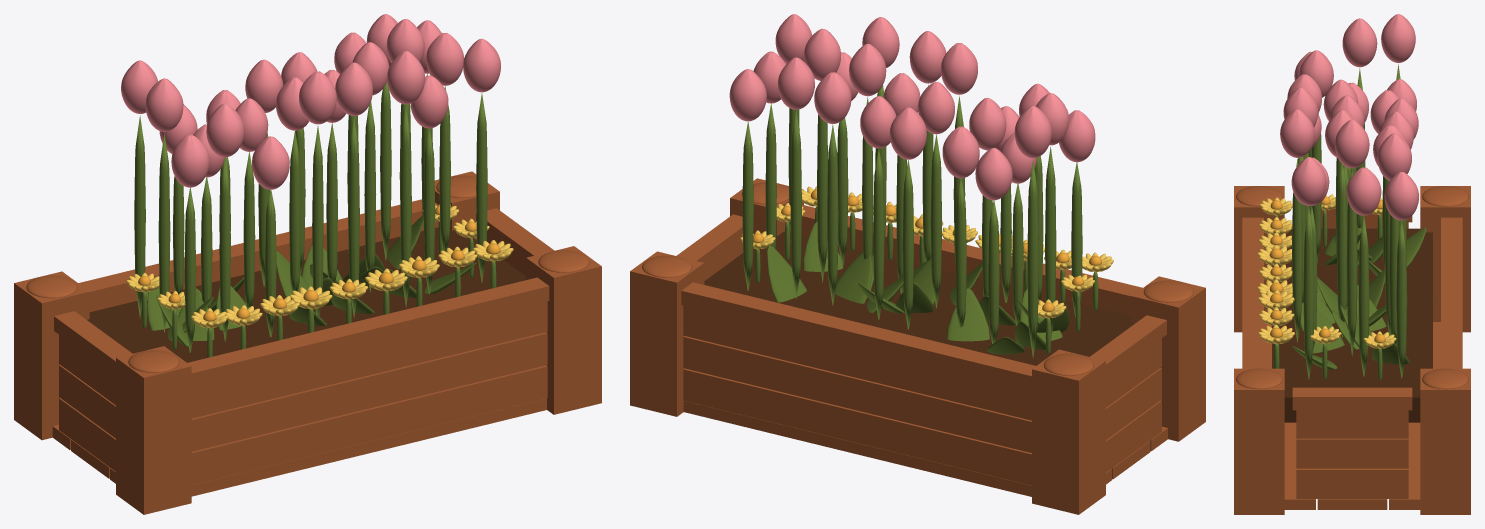
Rendered from 15-planter-tulips.glb.
3 views of the same model, side by side, from view 1: azimuth 30°, elevation 25°; view 2: azimuth 150°, elevation 25°; view 3: azimuth 270°, elevation 25° (orthographic). The views are drawn at different scales.
Parts seen in each view (by area): view 1: BoardL_-1_0, BoardL_-1_1, BoardL_-1_2, Soil, Post_-1_-1, RimL_-1, Post_1_-1, Post_-1_1, BasePlank_0, RimL_1, RimS_-1, BoardS_-1_0 (+58 smaller); view 2: Soil, BoardL_1_0, BoardL_1_1, BoardL_1_2, Post_-1_1, RimL_1, Post_1_1, Post_-1_-1, BasePlank_2, RimL_-1, RimS_-1, BoardS_-1_1 (+56 smaller); view 3: Soil, Post_1_-1, Post_1_1, BoardS_1_0, BoardS_1_1, RimL_1, BoardS_1_2, RimL_-1, Post_-1_1, RimS_1, Post_-1_-1, BasePlank_2 (+58 smaller).
Part boxes in pixels (x1,y1,x2,y2): BoardL_-1_0: (191, 365, 547, 484); BoardL_-1_1: (191, 332, 547, 451); BoardL_-1_2: (191, 301, 547, 418); Soil: (87, 227, 526, 362); Post_-1_-1: (116, 346, 191, 514); RimL_-1: (187, 277, 549, 387); Post_1_-1: (526, 246, 601, 414); Post_-1_1: (14, 271, 89, 440); BasePlank_0: (110, 398, 546, 496); RimL_1: (78, 199, 438, 306); RimS_-1: (54, 311, 132, 375); BoardS_-1_0: (59, 398, 115, 471); Soil: (704, 231, 1134, 365); BoardL_1_0: (683, 368, 1031, 485); BoardL_1_1: (683, 336, 1031, 452); BoardL_1_2: (683, 305, 1031, 420); Post_-1_1: (1032, 349, 1105, 514); RimL_1: (681, 282, 1035, 390); Post_1_1: (630, 251, 704, 416); Post_-1_-1: (1131, 276, 1205, 441); BasePlank_2: (683, 401, 1111, 496); RimL_-1: (789, 204, 1142, 310); RimS_-1: (1090, 315, 1166, 378); BoardS_-1_1: (1106, 368, 1161, 439); Soil: (1272, 228, 1432, 422); Post_1_-1: (1234, 368, 1284, 514); Post_1_1: (1420, 368, 1470, 514); BoardS_1_0: (1296, 468, 1408, 498); BoardS_1_1: (1296, 438, 1408, 468); RimL_1: (1441, 217, 1462, 368); BoardS_1_2: (1296, 410, 1408, 438); RimL_-1: (1242, 217, 1263, 368); Post_-1_1: (1420, 186, 1470, 332); RimS_1: (1292, 387, 1412, 410); Post_-1_-1: (1234, 186, 1284, 332); BasePlank_2: (1389, 322, 1440, 509).
Size of the model in its own units: 2.1 by 1.62 by 1.03.
